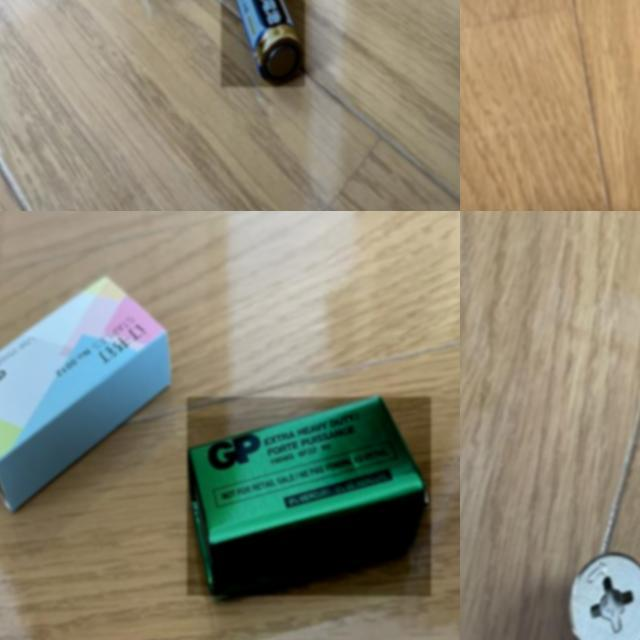9V: (188, 397, 432, 596)
